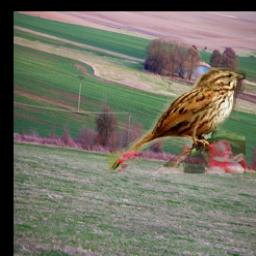Sparrow: (104, 64, 246, 173)
